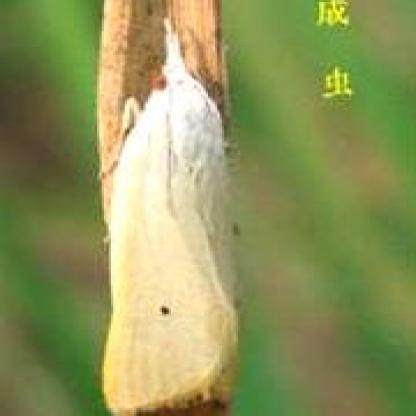stem-borer: (97, 15, 243, 416)
